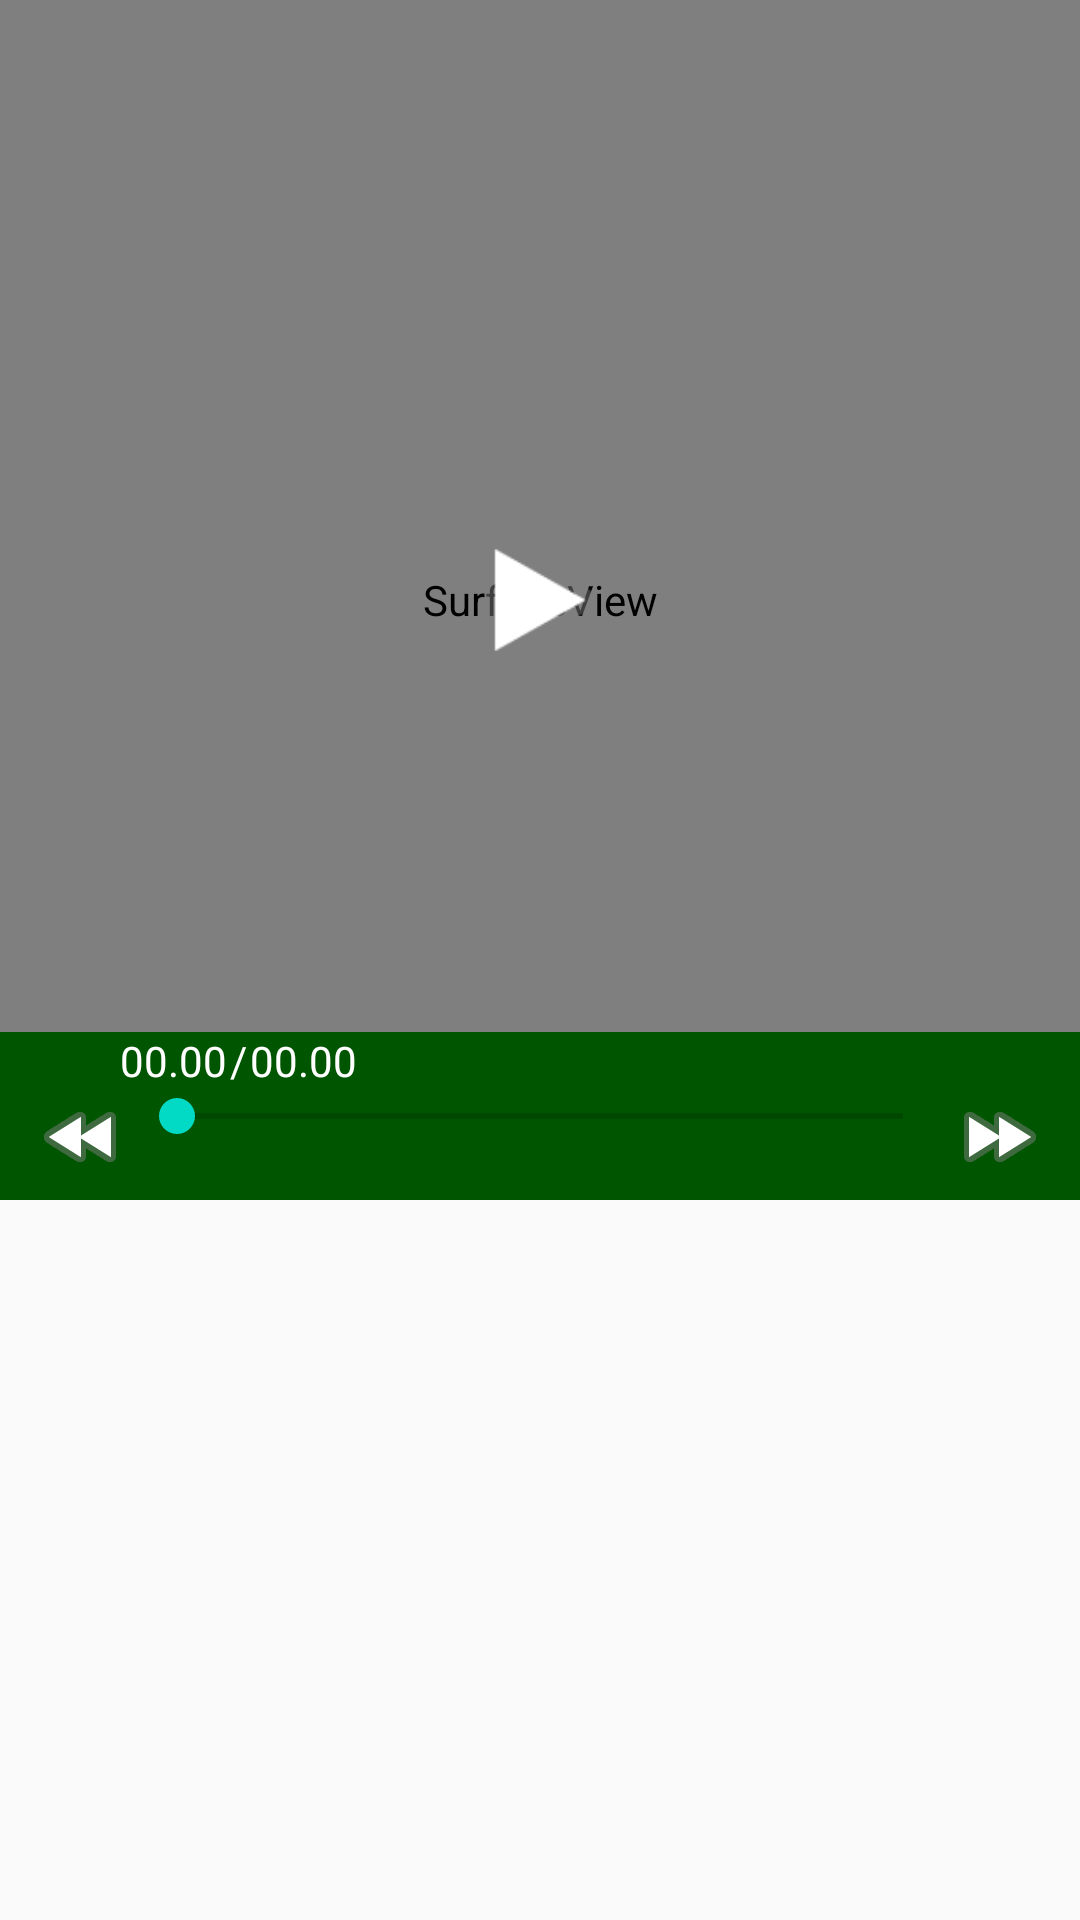

Named icons in this screenshot (1080 x 1920) and their bounding boxes, (x1, y1, x2, y2):
rew: (44, 1112, 116, 1162)
